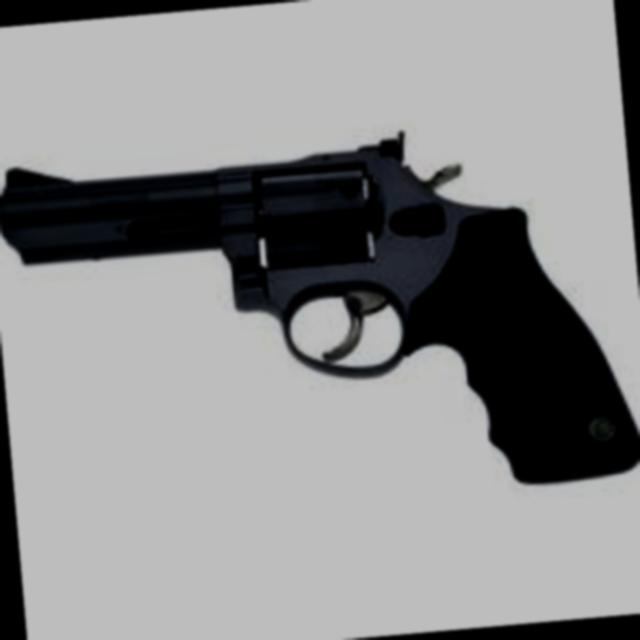revolver: (0, 82, 640, 532)
